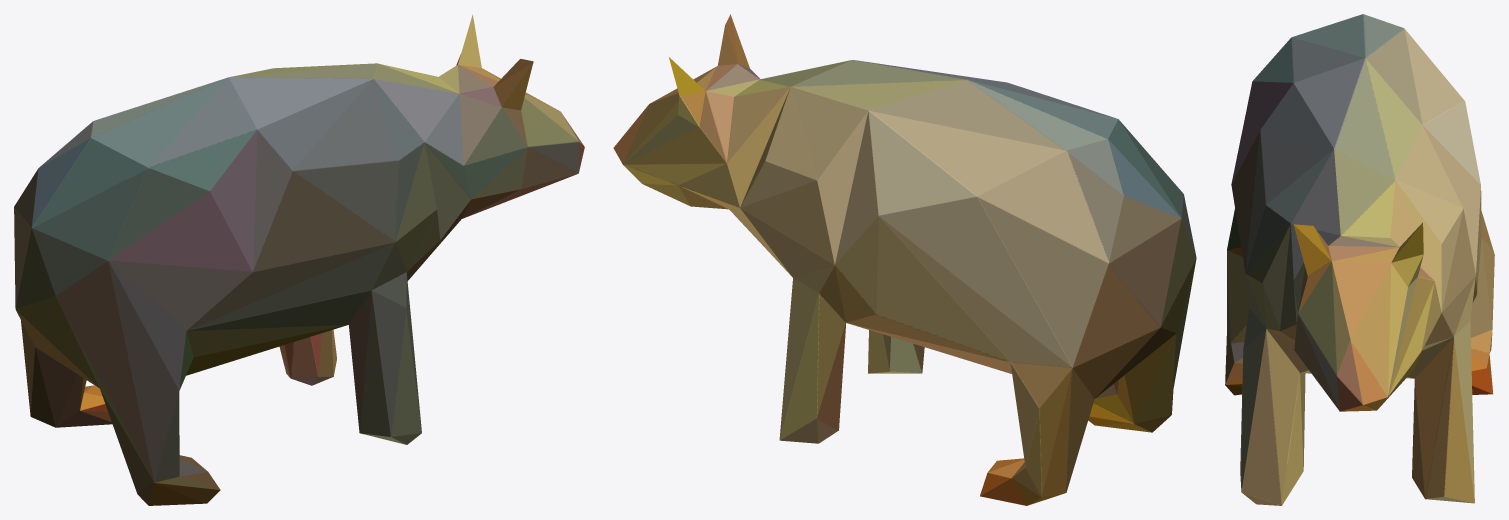
The model's file is SpecieModel5.fbx.
3 renders of one model, left to right at view 1: azimuth 30°, elevation 25°; view 2: azimuth 150°, elevation 25°; view 3: azimuth 270°, elevation 25°, orthographic. The views are drawn at different scales.
Visible parts, largest first — view 1: Mesh_0; view 2: Mesh_0; view 3: Mesh_0.
Boxes of the visible parts, x1,y1,x2,y2 form: Mesh_0: [14, 14, 584, 505]; Mesh_0: [613, 14, 1196, 505]; Mesh_0: [1225, 14, 1494, 505].
Size of the model in its own units: 157 by 96.48 by 61.89.
Materials: 1 (1 with a texture image).
